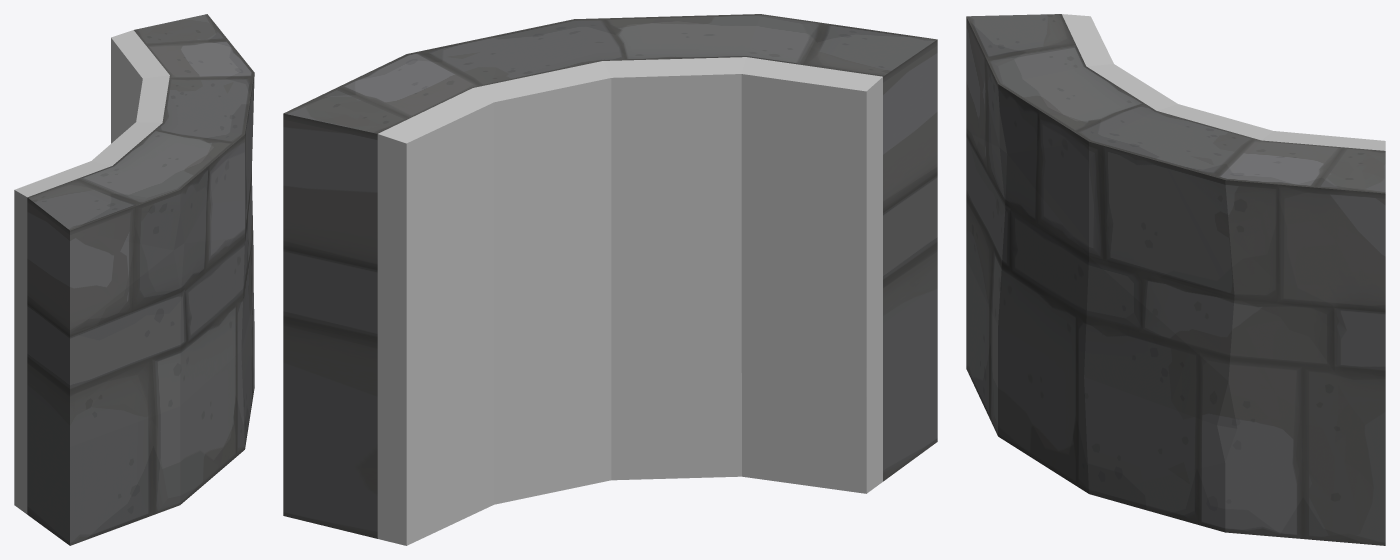
Rendered from SM_Bld_Wall_L_Curve_Half_02.fbx.
3 views of the same model, side by side, from view 1: azimuth 30°, elevation 25°; view 2: azimuth 150°, elevation 25°; view 3: azimuth 270°, elevation 25° (orthographic). The views are drawn at different scales.
Parts seen in each view (by area): view 1: SM_Bld_Wall_L_Curve_Half_02; view 2: SM_Bld_Wall_L_Curve_Half_02; view 3: SM_Bld_Wall_L_Curve_Half_02.
Boxes of the visible parts, <box> form: SM_Bld_Wall_L_Curve_Half_02: <box>14,14,254,545</box>; SM_Bld_Wall_L_Curve_Half_02: <box>283,14,937,545</box>; SM_Bld_Wall_L_Curve_Half_02: <box>966,14,1385,545</box>.
Size of the model in its own units: 324 by 302 by 324.
